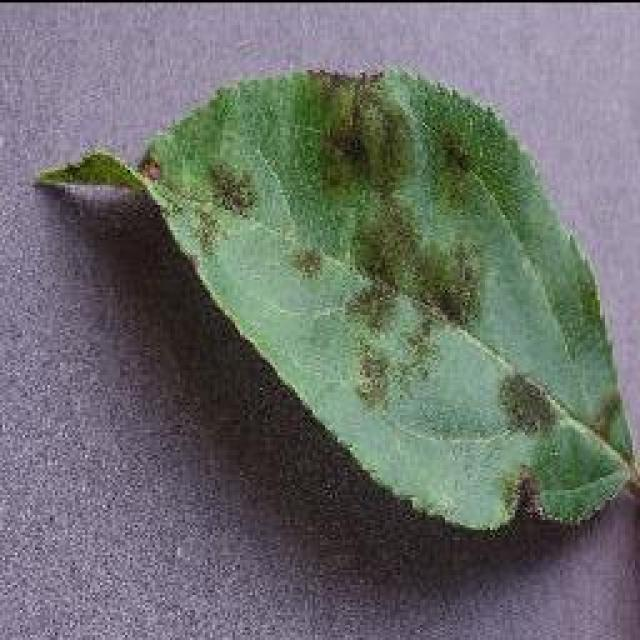apple scab disease: (32, 60, 638, 538)
